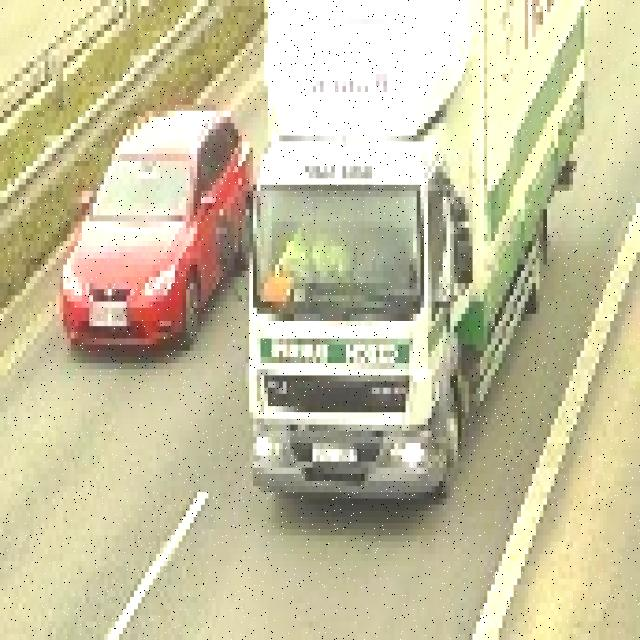truck: (242, 0, 588, 486)
